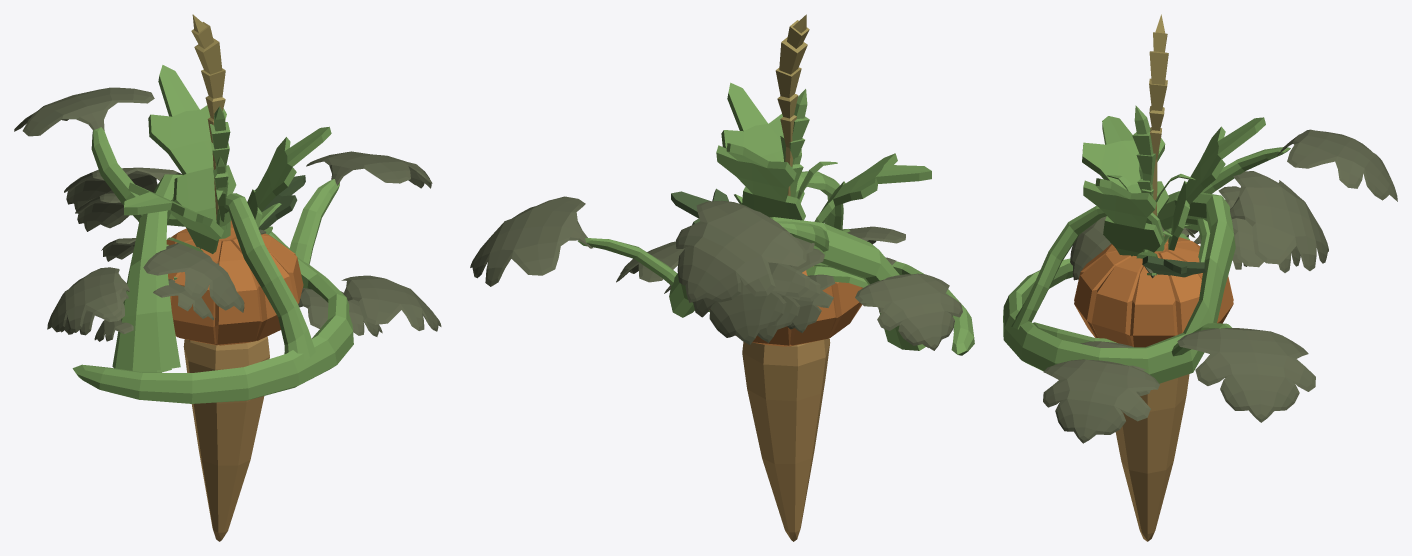
The model's file is crops.glb.
3 renders of one model, left to right at view 1: azimuth 30°, elevation 25°; view 2: azimuth 150°, elevation 25°; view 3: azimuth 270°, elevation 25°, orthographic. The views are drawn at different scales.
Parts seen in each view (by area): view 1: Pumpkin_4, Carrot_4, Pumpkin_3, Wheat_4, Pumpkin_2, Wheat_3; view 2: Pumpkin_4, Carrot_4, Wheat_4, Pumpkin_3, Pumpkin_2, Wheat_3; view 3: Pumpkin_4, Carrot_4, Pumpkin_3, Wheat_4, Wheat_3.
Part boxes in pixels (x1,y1,x2,y2): Pumpkin_4: (14,87,441,403); Carrot_4: (124,65,331,541); Pumpkin_3: (61,193,382,372); Wheat_4: (191,14,225,219); Pumpkin_2: (94,238,213,341); Wheat_3: (208,106,230,228); Pumpkin_4: (470,171,974,355); Carrot_4: (671,82,931,541); Wheat_4: (775,14,809,196); Pumpkin_3: (664,226,952,347); Pumpkin_2: (787,257,899,332); Wheat_3: (780,89,837,199); Pumpkin_4: (1003,129,1397,443); Carrot_4: (1082,116,1265,541); Pumpkin_3: (1033,186,1300,396); Wheat_4: (1149,14,1168,216); Wheat_3: (1106,105,1195,244).
Bounding box in the file's own units: 1.29 × 1.56 × 1.08.
